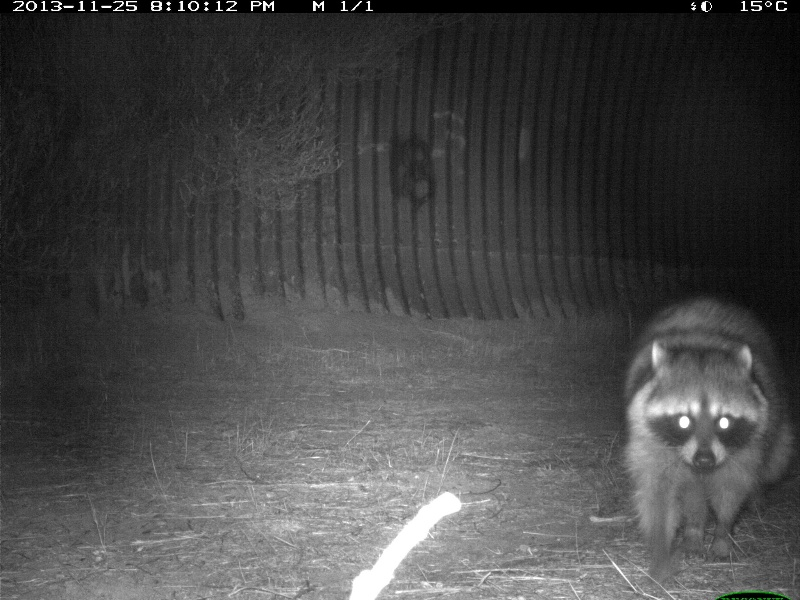raccoon: (621, 292, 795, 587)
